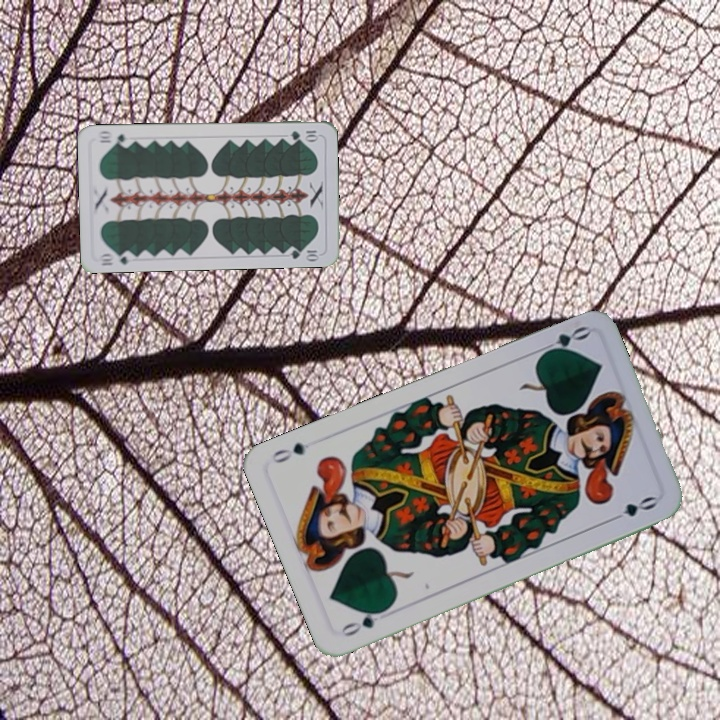G10: (95, 248, 136, 268), (286, 126, 321, 142)
GO: (534, 322, 592, 359), (337, 604, 391, 639)
